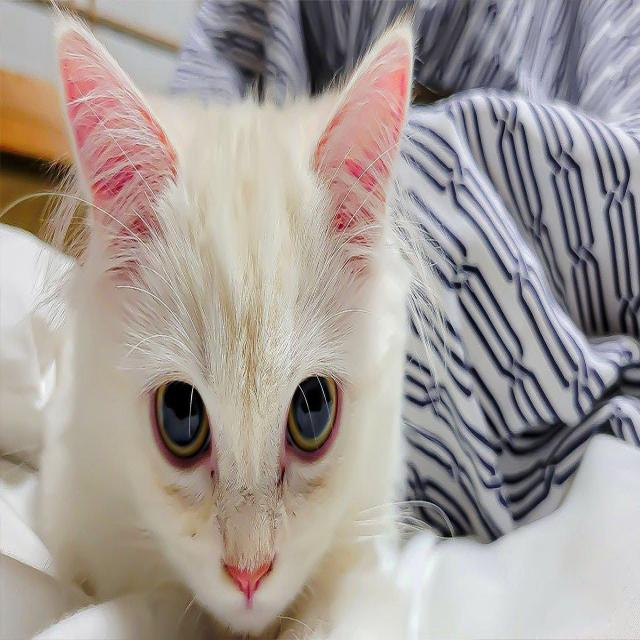Cat: (45, 14, 422, 640)
